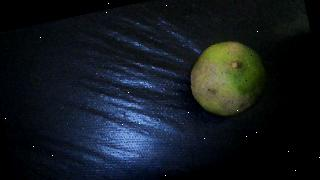DESECHO: (183, 35, 273, 122)
